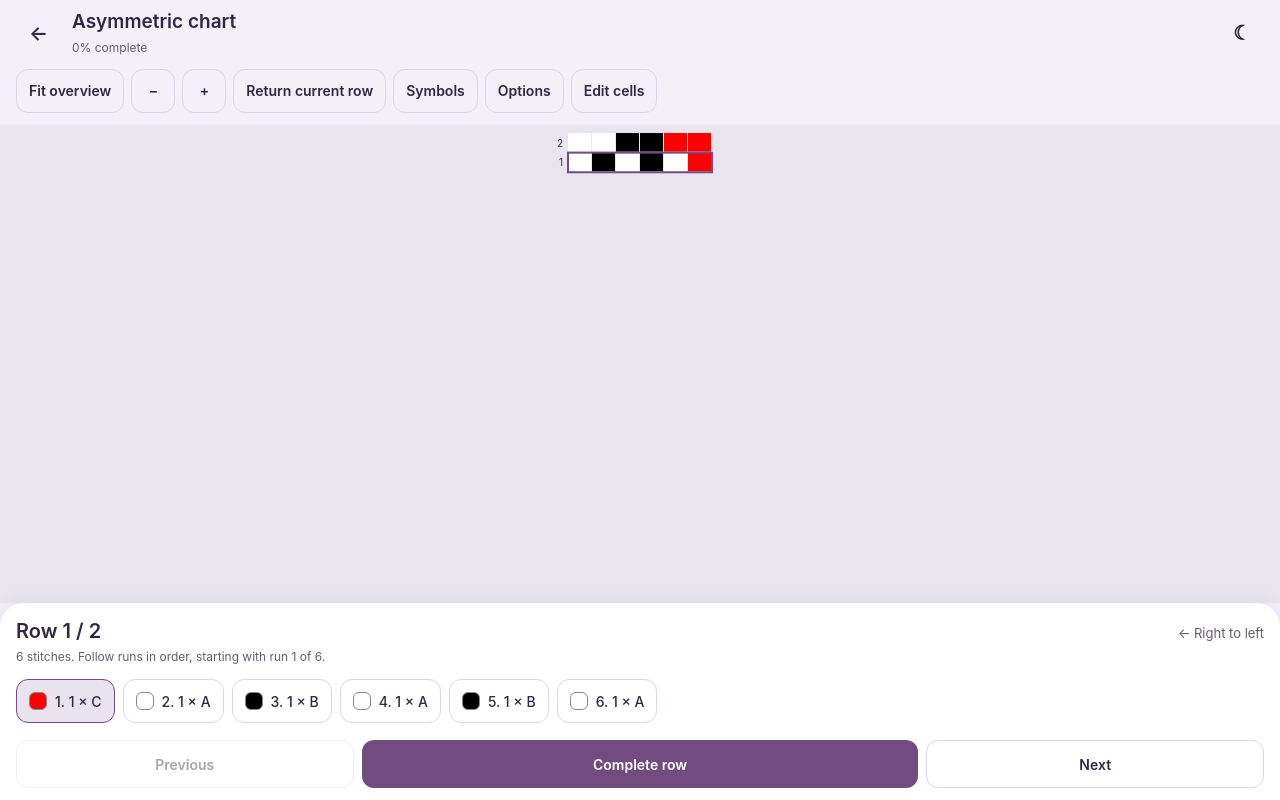
chart reader interactions › navigation never completes rows, including legacy projects without completedRows
Click the button with aria-label "Next row" at (1095, 764), box [926,740,1264,788]
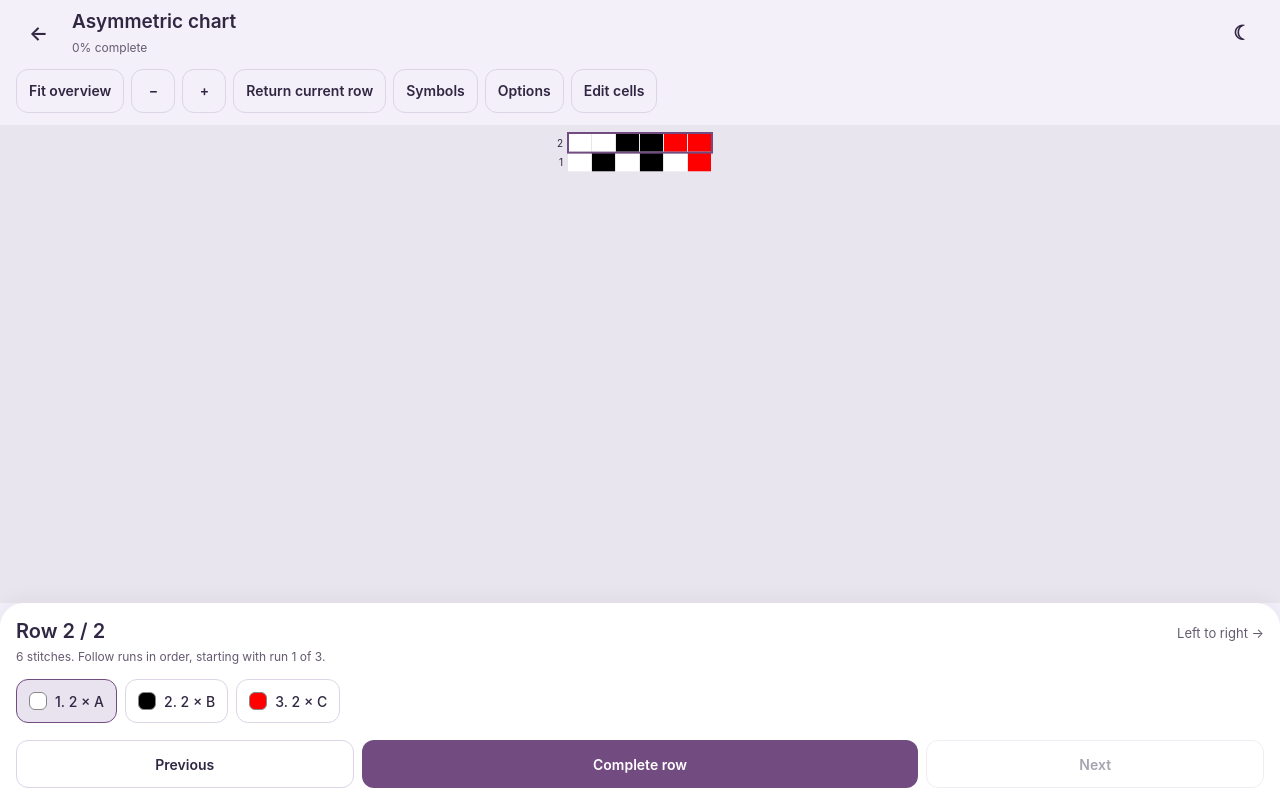
Expected: the text "0% complete" is shown, [72,40,147,55]
Click the button "Complete row" at (640, 764), box [362,740,918,788]
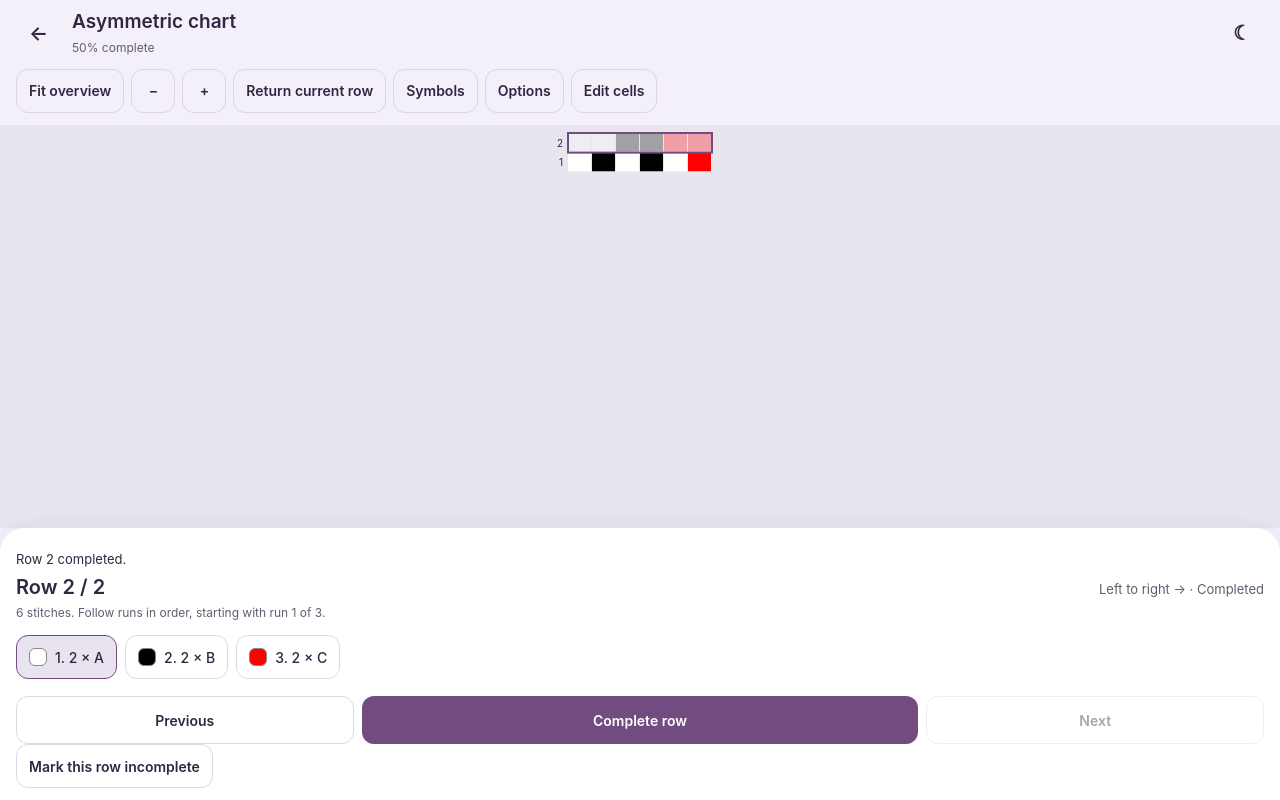
Expected: the text "50% complete" is shown, [72,40,154,55]
